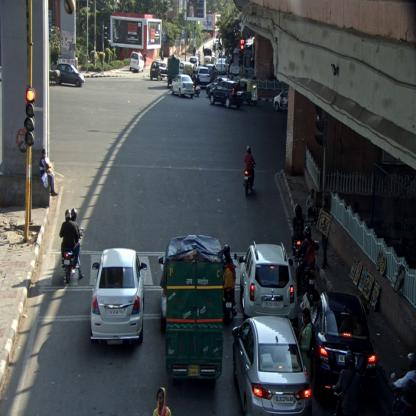car: (231, 315, 312, 415), (313, 292, 377, 396), (91, 248, 147, 352), (240, 241, 297, 328), (208, 79, 244, 111), (54, 62, 85, 87), (171, 73, 195, 99), (273, 87, 289, 114), (150, 60, 167, 82), (130, 51, 145, 74), (196, 66, 210, 86), (217, 56, 228, 76)
motorcycle: (60, 209, 86, 284), (296, 227, 319, 299), (390, 349, 415, 412), (223, 243, 238, 327), (244, 142, 256, 196), (193, 73, 201, 99)
truck: (166, 234, 223, 392), (168, 55, 180, 87)
